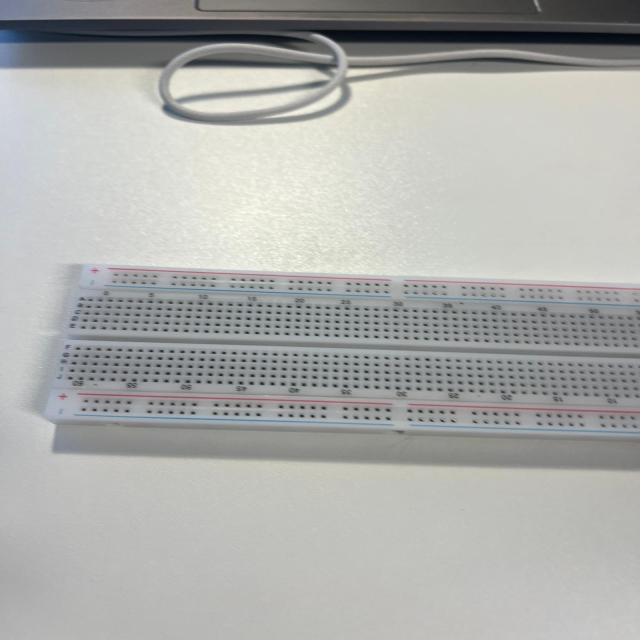BreadBoard: (77, 262, 628, 470)
